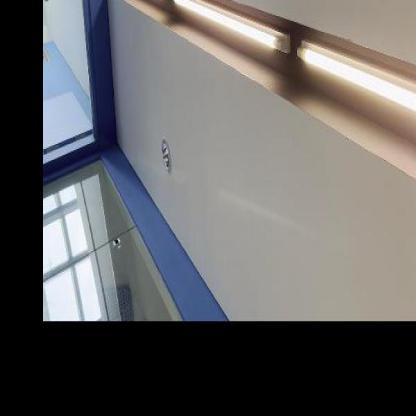light_on: (290, 15, 416, 154), (167, 0, 290, 74), (117, 0, 165, 8)
